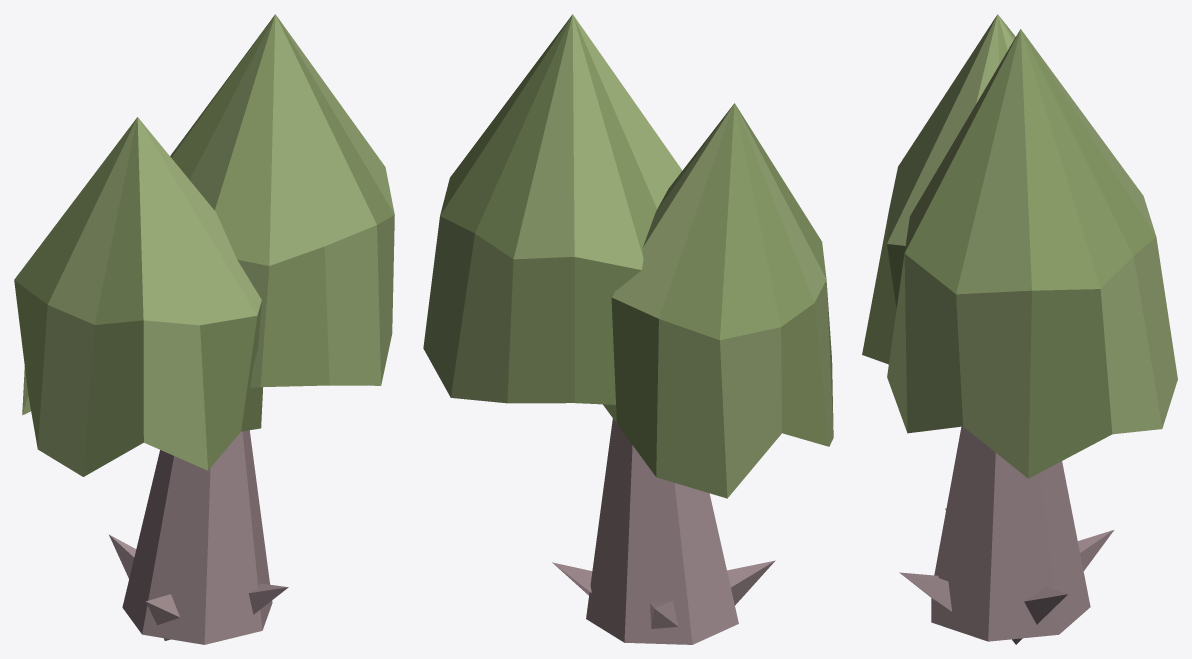
The model's file is tree_rosewood.glb.
3 views of the same model, side by side, from view 1: azimuth 30°, elevation 25°; view 2: azimuth 150°, elevation 25°; view 3: azimuth 270°, elevation 25° (orthographic). The views are drawn at different scales.
Visible parts, largest first — view 1: tree_rosewood; view 2: tree_rosewood; view 3: tree_rosewood.
Part boxes in pixels (box(x1,y1,x2,y2)): tree_rosewood: box(14, 14, 394, 644); tree_rosewood: box(423, 14, 833, 644); tree_rosewood: box(862, 14, 1177, 644).
Size of the model in its own units: 3.84 by 6.02 by 2.69.
